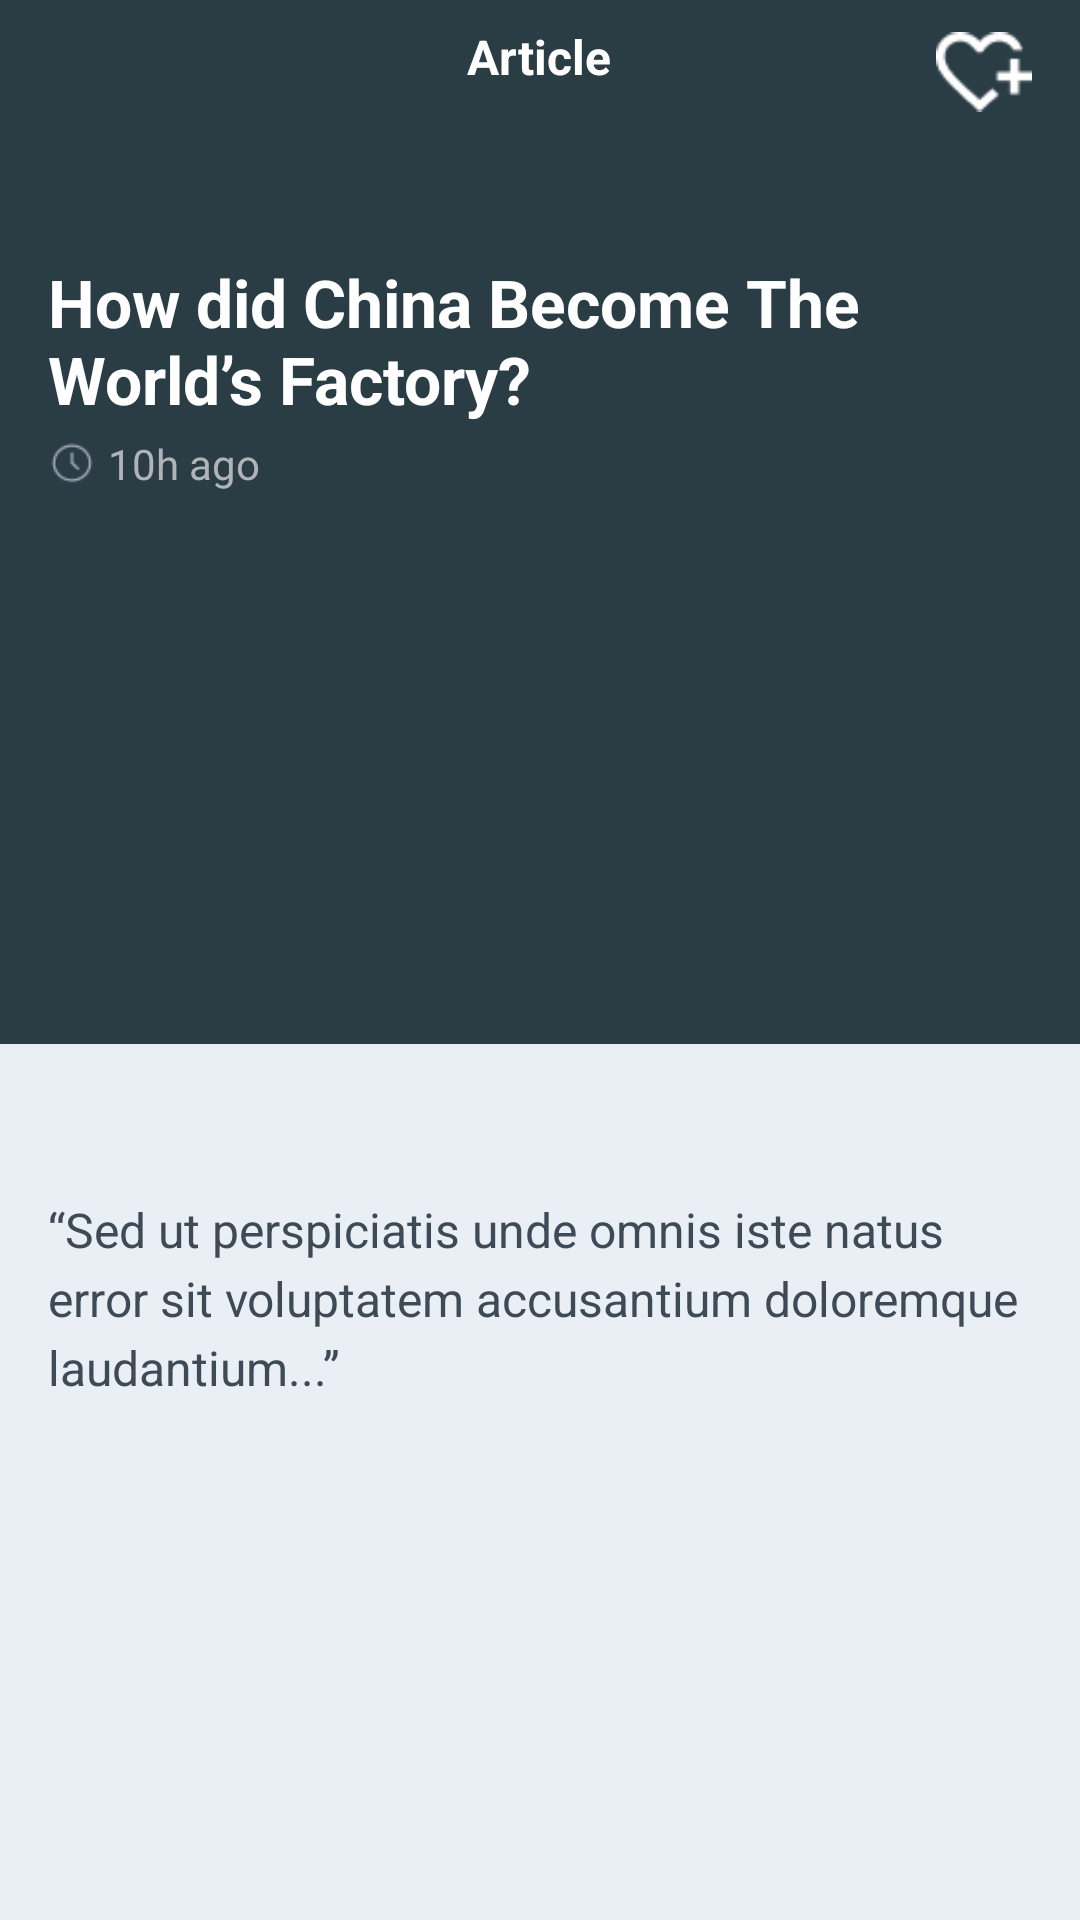

Screen size 1080 × 1920. Icon name, then its box in pixels as (x1, y1, x2, y2):
clock: (52, 443, 92, 483)
Favorite Button: (936, 32, 1032, 112)
